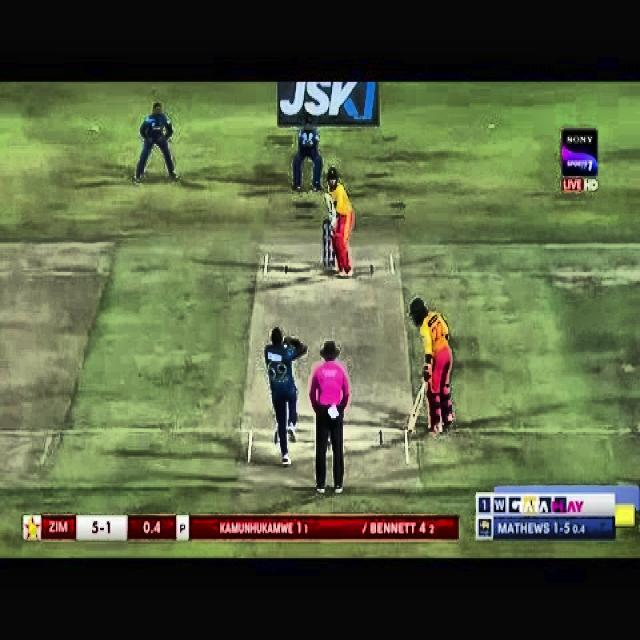Left-stump: (323, 221, 326, 267)
Middle-stump: (328, 221, 331, 267)
Right-stump: (334, 251, 336, 267)
